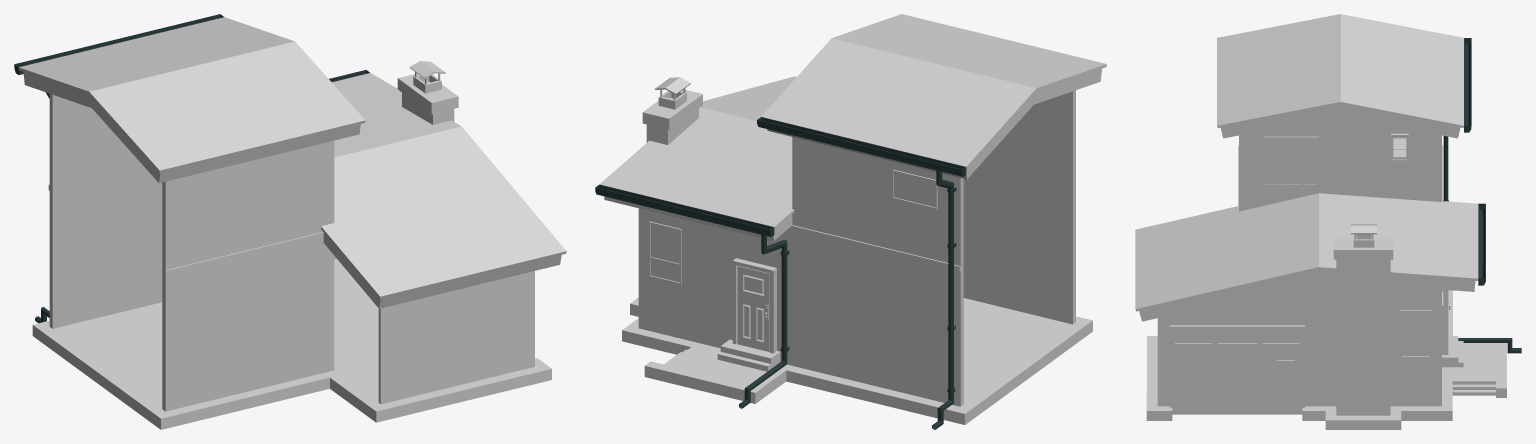
The picture shows the model from 3 angles, left to right: view 1: azimuth 30°, elevation 25°; view 2: azimuth 150°, elevation 25°; view 3: azimuth 270°, elevation 25°; orthographic projection. The views are drawn at different scales.
Visible parts, largest first — view 1: H2_Wall_D, H2_Roof_A, H2_Roof_B, H2_Wall_C, H2_Base, H2_Wall_E, H2_Chimney_00, H2_Gutter_01; view 2: H2_Wall_C, H2_Roof_B, H2_Wall_D, H2_Base, H2_Roof_A, H2_Wall_B, H2_Door_00, H2_Chimney_00, H2_Gutter_01, H2_Gutter_00, H2_Window_01, H2_Drain_01 (+4 smaller); view 3: H2_Roof_A, H2_Roof_B, H2_Wall_A, H2_Wall_F, H2_GarageDoor_00, H2_Chimney_00, H2_Base, H2_Window_02, H2_Window_00, H2_Gutter_01, H2_Gutter_00, H2_AirVent_00 (+3 smaller).
Boxes of the visible parts, x1=… form: H2_Wall_D: x1=162, y1=142, x2=334, y2=411; H2_Roof_A: x1=321, y1=73, x2=566, y2=308; H2_Roof_B: x1=18, y1=17, x2=365, y2=183; H2_Wall_C: x1=48, y1=94, x2=162, y2=328; H2_Base: x1=32, y1=259, x2=551, y2=429; H2_Wall_E: x1=378, y1=272, x2=530, y2=404; H2_Chimney_00: x1=397, y1=61, x2=458, y2=124; H2_Gutter_01: x1=14, y1=14, x2=223, y2=74; H2_Wall_C: x1=791, y1=138, x2=963, y2=406; H2_Roof_B: x1=761, y1=14, x2=1106, y2=179; H2_Wall_D: x1=963, y1=90, x2=1075, y2=324; H2_Base: x1=622, y1=297, x2=1092, y2=424; H2_Roof_A: x1=599, y1=76, x2=796, y2=240; H2_Wall_B: x1=642, y1=209, x2=792, y2=365; H2_Door_00: x1=732, y1=258, x2=776, y2=353; H2_Chimney_00: x1=642, y1=77, x2=702, y2=144; H2_Gutter_01: x1=757, y1=117, x2=966, y2=176; H2_Gutter_00: x1=595, y1=184, x2=774, y2=236; H2_Window_01: x1=648, y1=221, x2=681, y2=284; H2_Drain_01: x1=932, y1=170, x2=956, y2=429; H2_Roof_A: x1=1135, y1=193, x2=1478, y2=321; H2_Roof_B: x1=1217, y1=14, x2=1463, y2=138; H2_Wall_A: x1=1157, y1=281, x2=1441, y2=407; H2_Wall_F: x1=1239, y1=116, x2=1441, y2=211; H2_GarageDoor_00: x1=1172, y1=329, x2=1302, y2=414; H2_Chimney_00: x1=1333, y1=224, x2=1393, y2=415; H2_Base: x1=1146, y1=290, x2=1506, y2=429; H2_Window_02: x1=1264, y1=136, x2=1318, y2=185; H2_Window_00: x1=1399, y1=310, x2=1432, y2=358; H2_Gutter_01: x1=1464, y1=38, x2=1471, y2=132; H2_Gutter_00: x1=1478, y1=203, x2=1485, y2=285; H2_AirVent_00: x1=1391, y1=133, x2=1408, y2=161.
Bounding box in the file's own units: 1062 × 797 × 1087.
